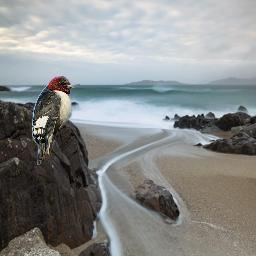Woodpecker: (32, 76, 81, 165)
